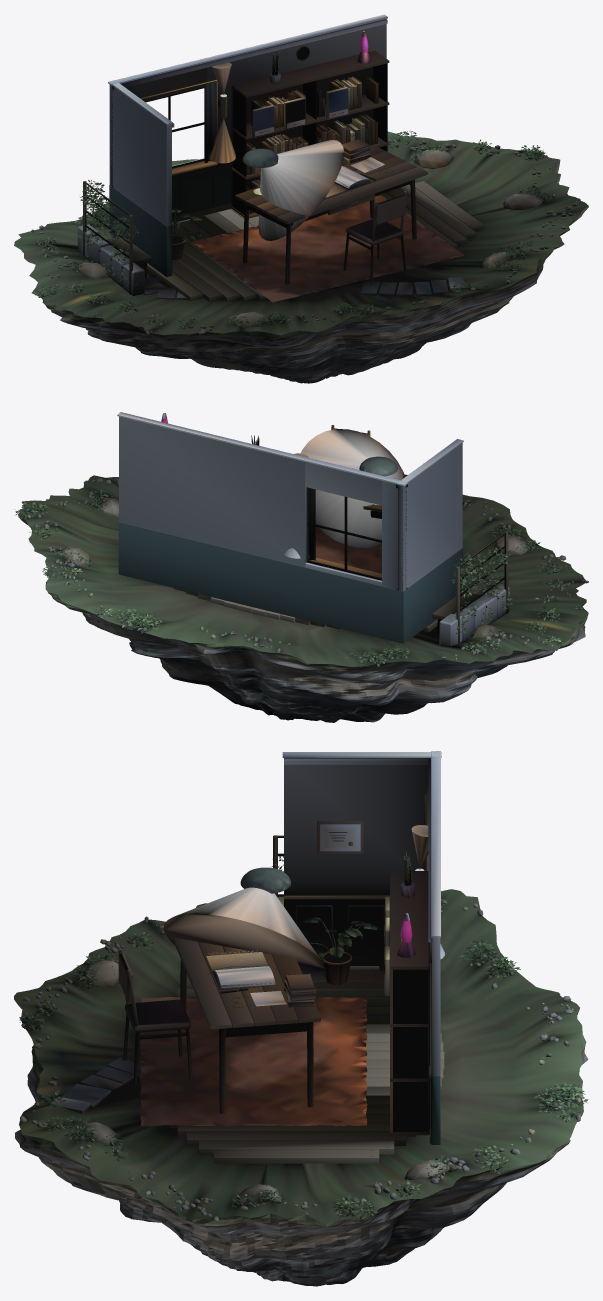
File: flight-writing-c8bad9ff.glb
3 views of the same model, one above another, from view 1: azimuth 30°, elevation 25°; view 2: azimuth 150°, elevation 25°; view 3: azimuth 270°, elevation 25° (orthographic). The views are drawn at different scales.
Visible parts, largest first — view 1: Writing island · flight.001; view 2: Writing island · flight.001; view 3: Writing island · flight.001.
Boxes of the visible parts, <box> form: Writing island · flight.001: <box>14,14,588,383</box>; Writing island · flight.001: <box>15,412,588,722</box>; Writing island · flight.001: <box>14,751,588,1286</box>.
Bounding box in the file's own units: 11.74 × 6.48 × 8.16.
